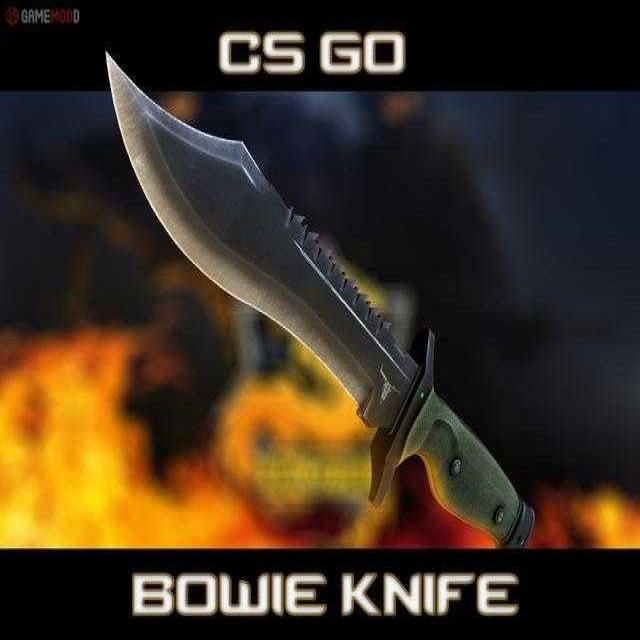Knife: (103, 43, 538, 558)
